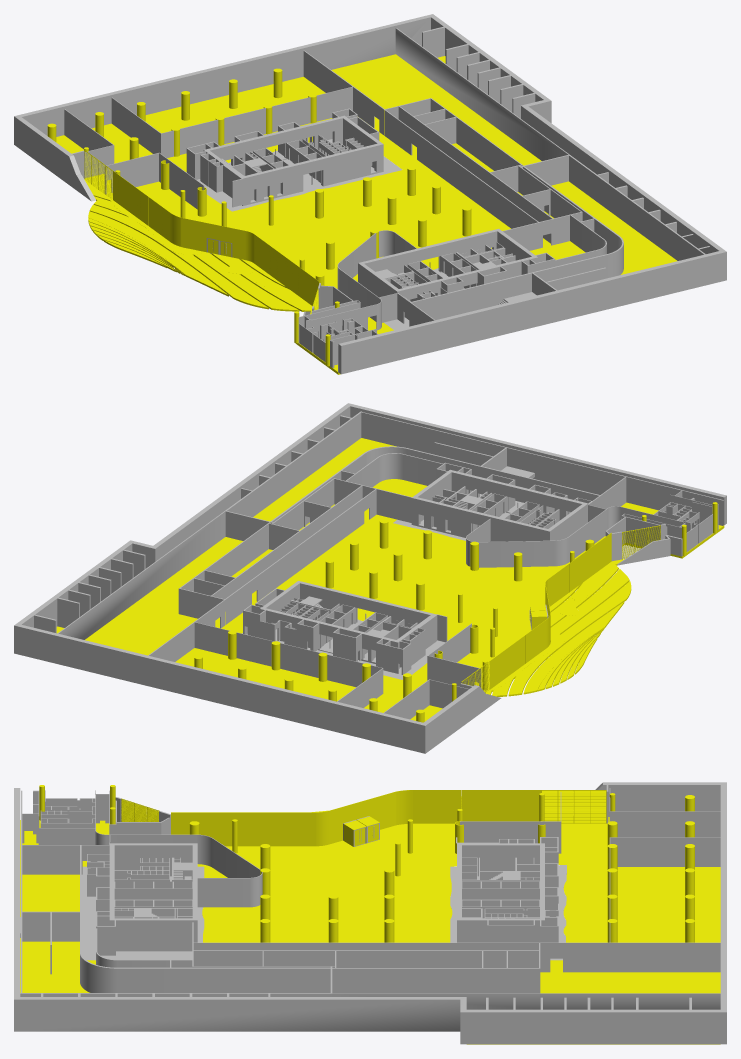
Rendered from sm_hana_building_b1f.glb.
3 views of the same model, one above another, from view 1: azimuth 30°, elevation 25°; view 2: azimuth 150°, elevation 25°; view 3: azimuth 270°, elevation 25° (orthographic). The views are drawn at different scales.
Parts seen in each view (by area): view 1: sm_hana_building_b1f; view 2: sm_hana_building_b1f; view 3: sm_hana_building_b1f.
Boxes of the visible parts, x1=… form: sm_hana_building_b1f: x1=14, y1=14, x2=726, y2=374; sm_hana_building_b1f: x1=14, y1=403, x2=726, y2=753; sm_hana_building_b1f: x1=14, y1=782, x2=726, y2=1044.
Bounding box in the file's own units: 94.24 × 6.51 × 115.
Materials: 8 (6 with a texture image).
